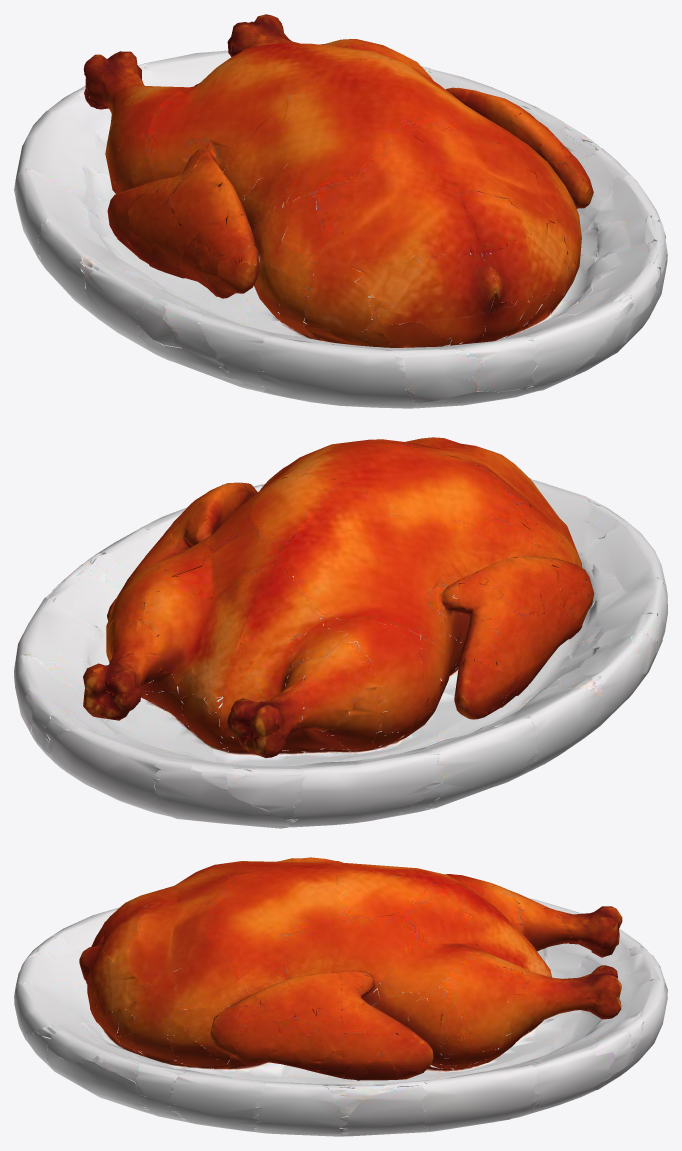
The model's file is peking_duck.glb.
3 views of the same model, one above another, from view 1: azimuth 30°, elevation 25°; view 2: azimuth 150°, elevation 25°; view 3: azimuth 270°, elevation 25° (orthographic). The views are drawn at different scales.
Visible parts, largest first — view 1: Mesh_0; view 2: Mesh_0; view 3: Mesh_0.
Part boxes in pixels (x1,y1,x2,y2): Mesh_0: (14,14,667,408); Mesh_0: (14,437,667,828); Mesh_0: (14,857,667,1136).
Bounding box in the file's own units: 0.7688 × 0.3385 × 1.
Materials: 1 (1 with a texture image).
